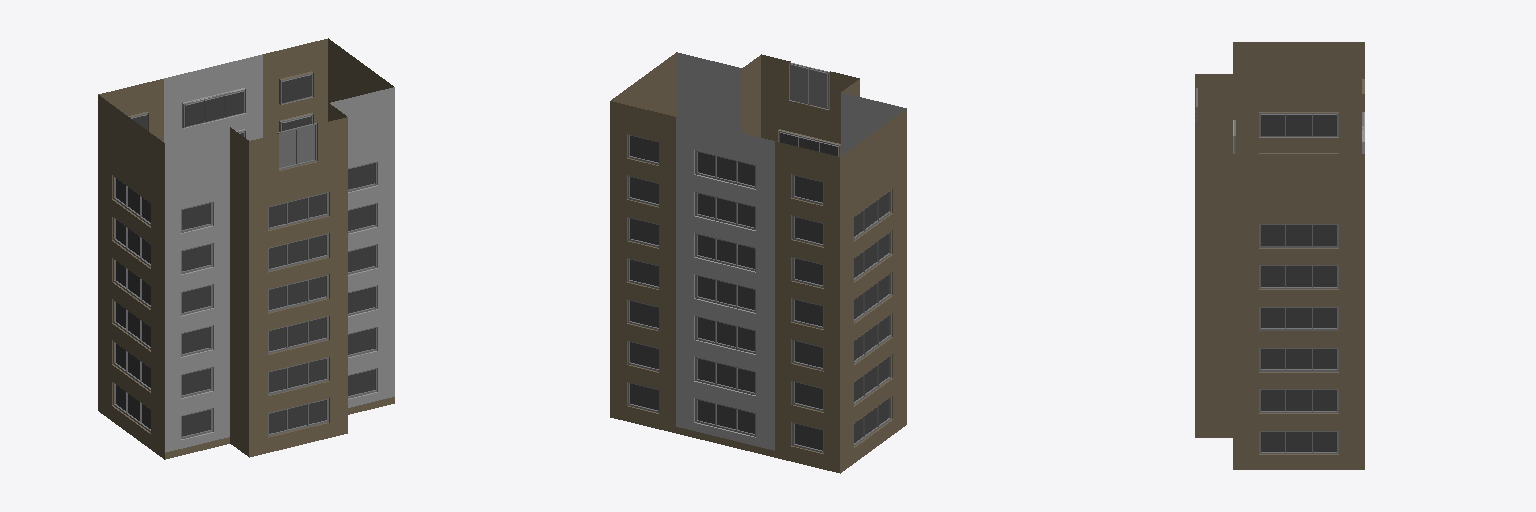
3 views of the same model, side by side, from view 1: azimuth 30°, elevation 25°; view 2: azimuth 150°, elevation 25°; view 3: azimuth 270°, elevation 25° (orthographic).
Parts seen in each view (by area): view 1: Building_9; view 2: Building_9; view 3: Building_9.
Part boxes in pixels (x1,y1,x2,y2): Building_9: (98, 38, 394, 459); Building_9: (610, 52, 906, 473); Building_9: (1195, 42, 1364, 469).
Size of the model in its own units: 70 by 92 by 45.
Materials: 1 (1 with a texture image).